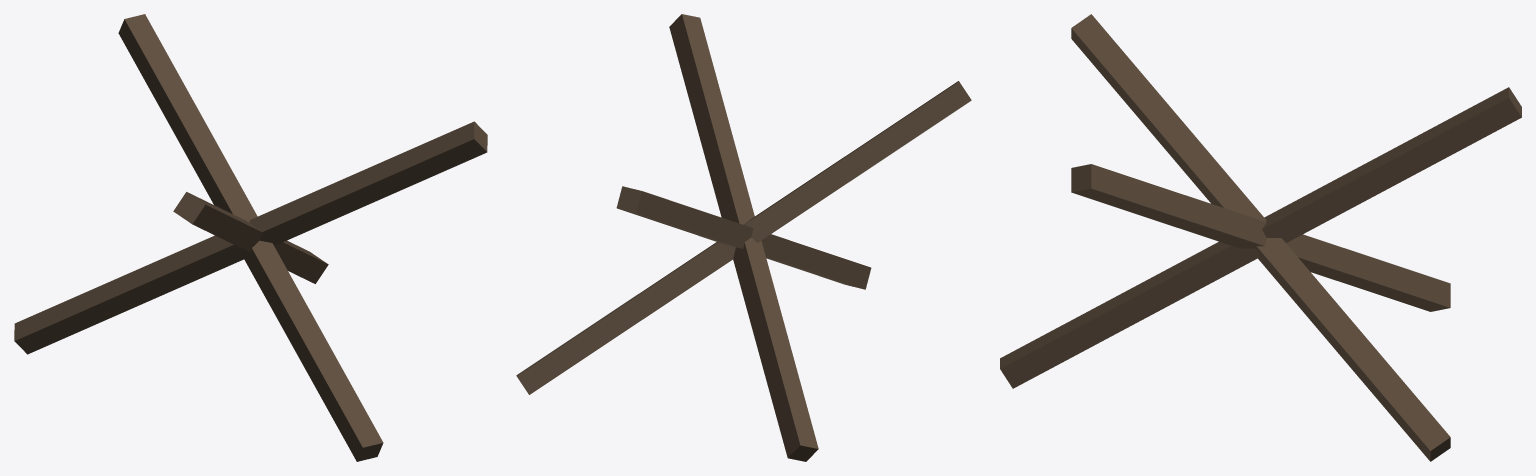
The model's file is tank_trap.glb.
3 views of the same model, side by side, from view 1: azimuth 30°, elevation 25°; view 2: azimuth 150°, elevation 25°; view 3: azimuth 270°, elevation 25° (orthographic). The views are drawn at different scales.
Visible parts, largest first — view 1: tank_trap; view 2: tank_trap; view 3: tank_trap.
Part boxes in pixels (x1,y1,x2,y2): tank_trap: (14, 14, 487, 461); tank_trap: (516, 14, 971, 461); tank_trap: (1000, 14, 1521, 461).
Bounding box in the file's own units: 1.29 × 1.1 × 1.74.
